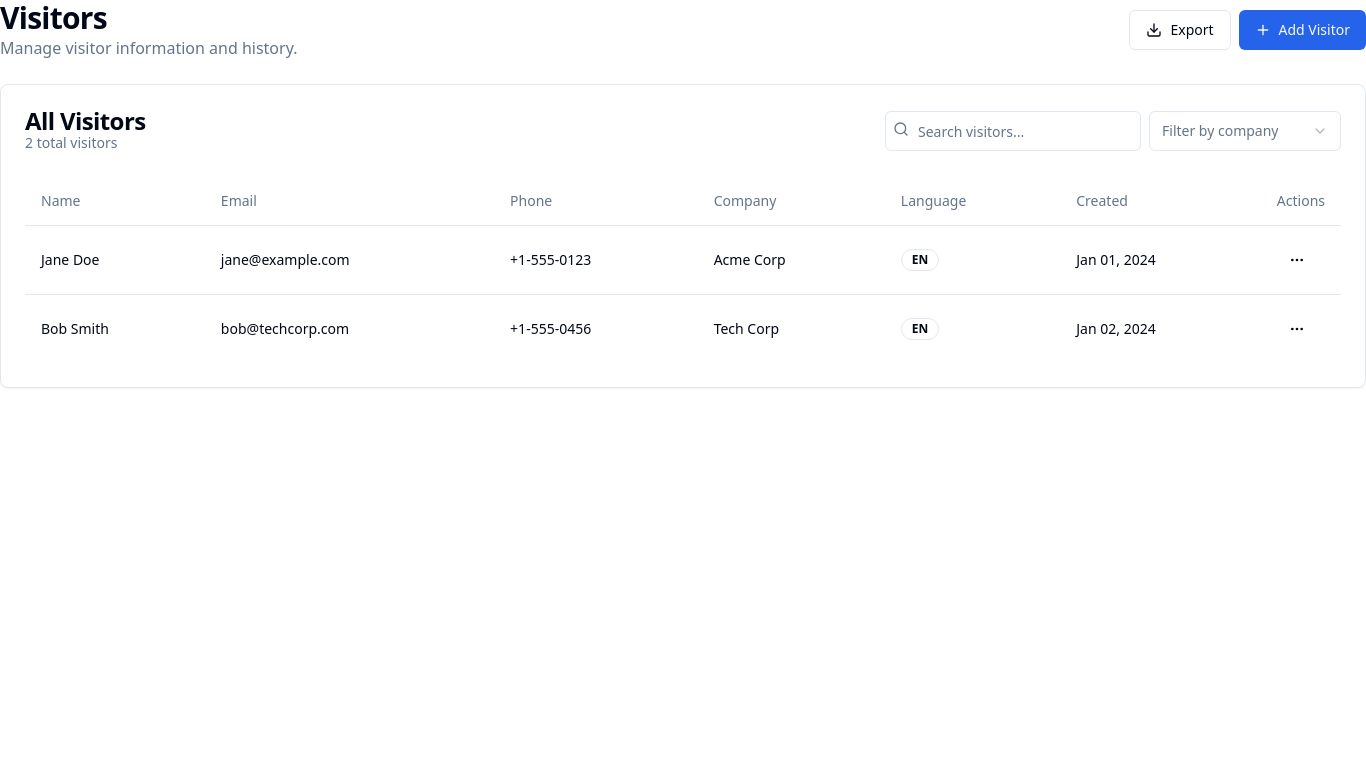
Test: VisitorsPage › opens create visitor dialog when add button is clicked
Click the button "Add Visitor" at (1302, 30), box [1238,10,1365,50]
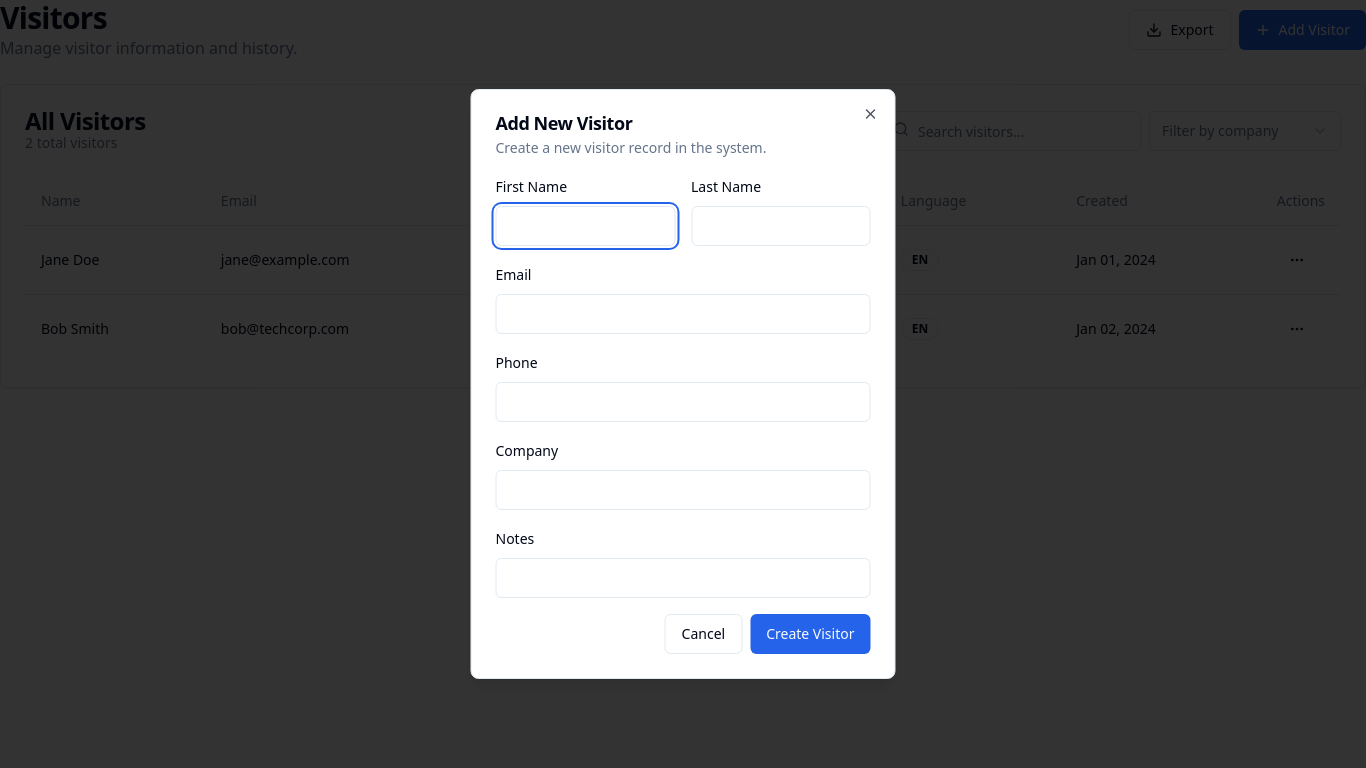
Check: the heading "Add New Visitor" is shown, box [496,111,632,135]
Check: the field labelled "First Name" is shown, box [496,206,675,246]
Check: the field labelled "Last Name" is shown, box [691,206,870,246]
